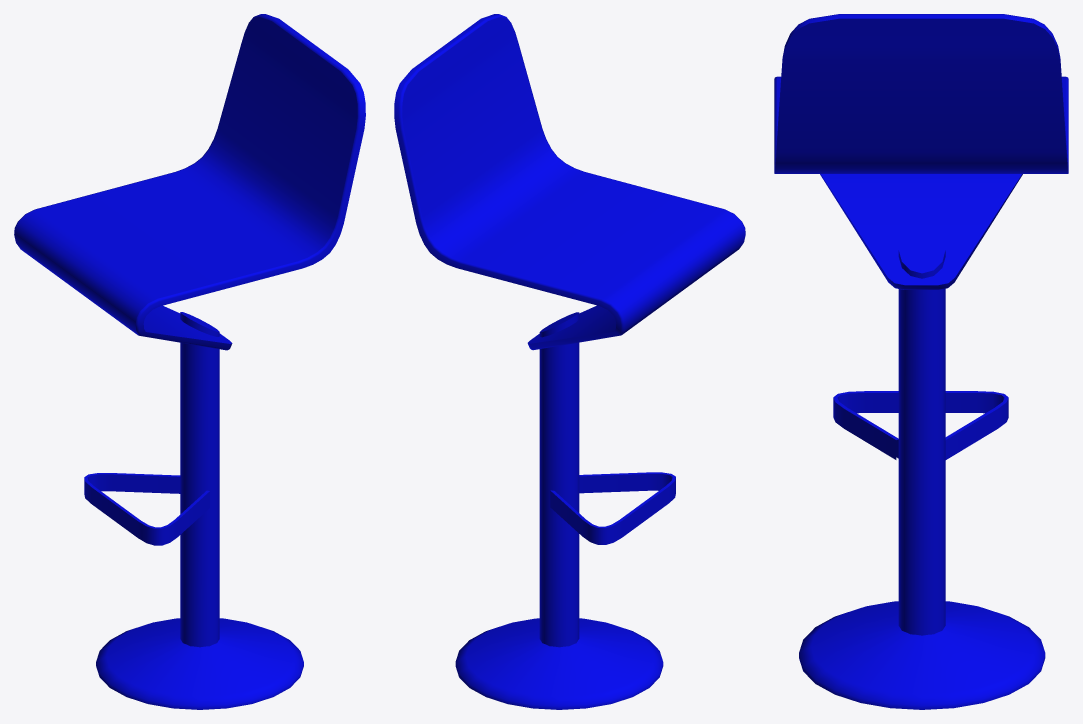
Rendered from Stool.FBX.
3 views of the same model, side by side, from view 1: azimuth 30°, elevation 25°; view 2: azimuth 150°, elevation 25°; view 3: azimuth 270°, elevation 25° (orthographic). The views are drawn at different scales.
Visible parts, largest first — view 1: Seat_Low; view 2: Seat_Low; view 3: Seat_Low.
Part boxes in pixels (box(x1,y1,x2,y2)): Seat_Low: box(14, 14, 365, 709); Seat_Low: box(394, 14, 745, 709); Seat_Low: box(774, 14, 1068, 709).
Bounding box in the file's own units: 15.17 × 36.16 × 13.68.
